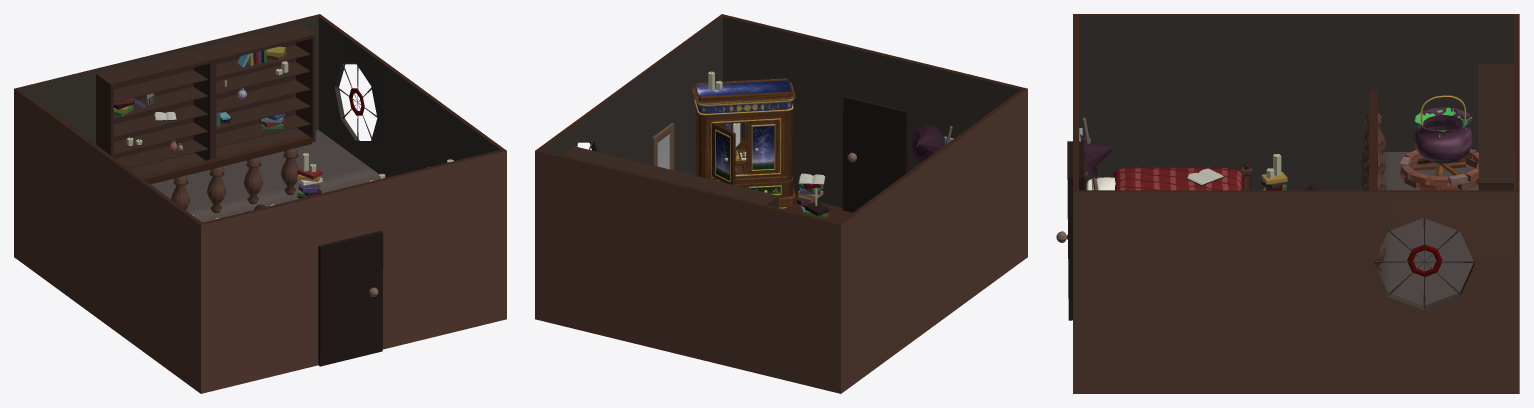
Rendered from Room3.fbx.
3 views of the same model, side by side, from view 1: azimuth 30°, elevation 25°; view 2: azimuth 150°, elevation 25°; view 3: azimuth 270°, elevation 25° (orthographic). The views are drawn at different scales.
Visible parts, largest first — view 1: pCube1, kast4, kast3, pCube9, pCube2, pCylinder4, pCylinder5, pCylinder6, pCylinder3, pCube88; view 2: pCube1, kast_gefikst3:kast_gefixt3:polySurface79, pCube9, kast4, kast3, heksenhoed:pCone1, pCube70; view 3: pCube1, bedEnKetel:pCylinder71, bedEnKetel:polySurface34, kast3, kast4, pCube9, pCube2, heksenhoed:pCone1, pTorus1.
Part boxes in pixels (bbox=[...]): pCube1: bbox=[14, 14, 506, 393]; kast4: bbox=[96, 48, 213, 176]; kast3: bbox=[198, 23, 315, 158]; pCube9: bbox=[318, 230, 383, 366]; pCube2: bbox=[140, 135, 311, 184]; pCylinder4: bbox=[243, 157, 262, 204]; pCylinder5: bbox=[207, 167, 226, 213]; pCylinder6: bbox=[280, 148, 298, 194]; pCylinder3: bbox=[171, 176, 189, 209]; pCube88: bbox=[297, 166, 322, 187]; pCube1: bbox=[535, 14, 1027, 393]; kast_gefikst3:kast_gefixt3:polySurface79: bbox=[692, 78, 795, 209]; pCube9: bbox=[842, 95, 907, 212]; kast4: bbox=[664, 171, 778, 207]; kast3: bbox=[562, 146, 675, 179]; heksenhoed:pCone1: bbox=[910, 124, 944, 162]; pCube70: bbox=[652, 123, 674, 170]; pCube1: bbox=[1073, 14, 1519, 393]; bedEnKetel:pCylinder71: bbox=[1399, 95, 1478, 190]; bedEnKetel:polySurface34: bbox=[1079, 133, 1251, 190]; kast3: bbox=[1478, 123, 1513, 190]; kast4: bbox=[1478, 63, 1513, 123]; pCube9: bbox=[1067, 141, 1084, 320]; pCube2: bbox=[1369, 90, 1378, 190]; heksenhoed:pCone1: bbox=[1080, 134, 1116, 178]; pTorus1: bbox=[1407, 244, 1442, 276].
Size of what is drawn, in the model's own units: 5.98 by 3.15 by 6.55.
